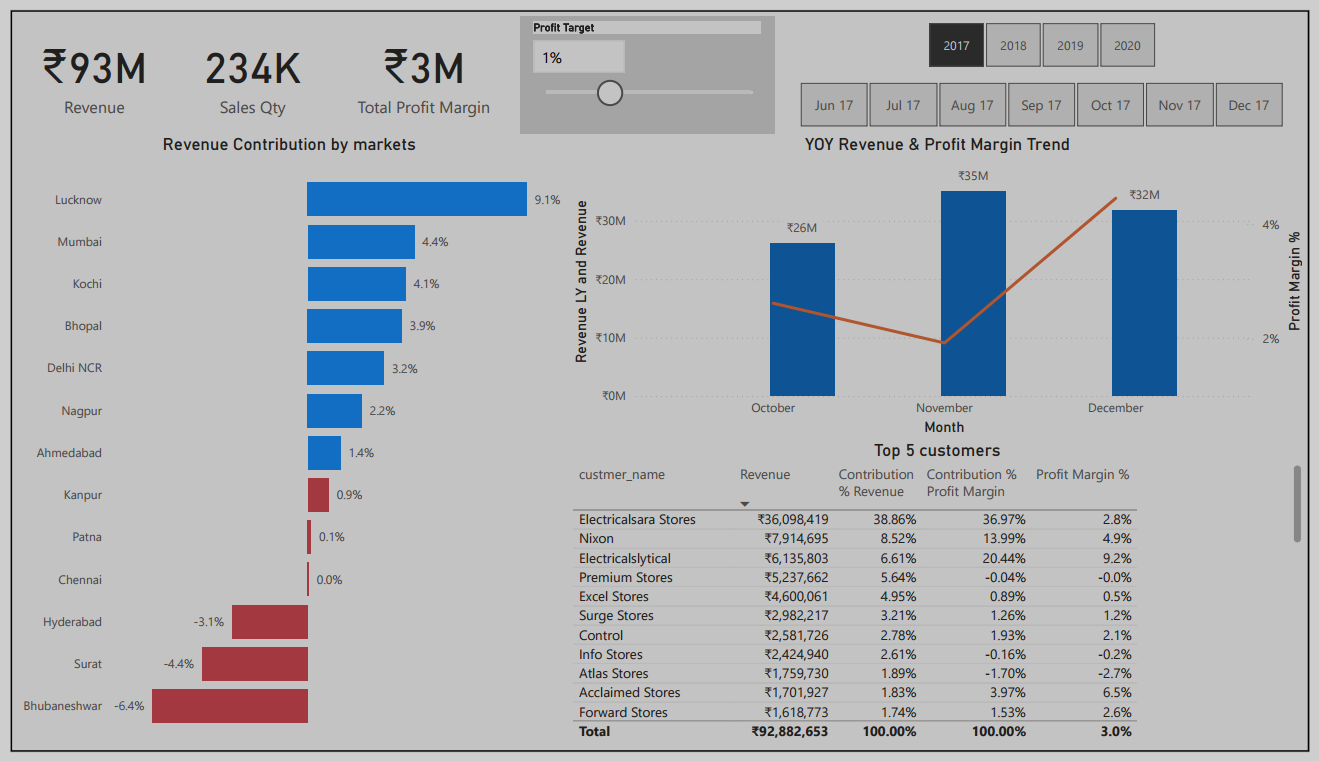

This screenshot's page, from the dashboard's own definition file:
{"tool":"powerbi","page":{"name":"Performance Insights","canvas":[1280,720],"ordinal":2},"visuals":[{"type":"card","fields":{"Values":["Base_Measures.Revenue"]},"box":[0,0,165,115],"z":0},{"type":"card","fields":{"Values":["Base_Measures.Sales Qty"]},"box":[165,0,147.5,115],"z":1000},{"type":"slicer","fields":{"Values":["date.year"]},"box":[881.4,0,272.9,57.1],"z":2000},{"type":"slicer","fields":{"Values":["date.cy_date"]},"box":[754.3,58.6,525.7,57.1],"z":3000},{"type":"tableEx","title":"Top 5 customers","fields":{"Values":["customers.custmer_name","Base_Measures.Revenue","Base_Measures.Contribution % Revenue","Base_Measures.Contribution % Profit Margin","Base_Measures.Profit Margin %"]},"box":[550,418.6,730,301.4],"z":4000},{"type":"lineClusteredColumnComboChart","title":"YOY Revenue & Profit Margin Trend","fields":{"Category":["date.cy_date.Variation.Date Hierarchy.Year","date.cy_date.Variation.Date Hierarchy.Quarter","date.cy_date.Variation.Date Hierarchy.Month","date.cy_date.Variation.Date Hierarchy.Day"],"Y":["Base_Measures.Revenue LY","Base_Measures.Revenue"],"Y2":["Base_Measures.Profit Margin %"]},"box":[550,115.7,730,302.9],"z":5000},{"type":"card","fields":{"Values":["Base_Measures.Total Profit Margin"]},"box":[312.5,0,190,115],"z":6000},{"type":"clusteredBarChart","title":"Revenue Contribution by markets","fields":{"Category":["markets.zone","markets.markets_name"],"Y":["Base_Measures.Profit Margin %"]},"box":[0,115.7,550,604.3],"z":7000},{"type":"slicer","fields":{"Values":["Profit Target.Profit Target"]},"box":[502.9,0,251.4,115.7],"z":8000}]}

Visuals, with their boxes in screenshot pixels (x1, y1, x2, y2), scaled from the page's 1280x720 canvas onto the 1319x761 screenshot:
card - Base_Measures.Revenue: [left=0, top=0, right=170, bottom=122]
card - Base_Measures.Sales Qty: [left=170, top=0, right=322, bottom=122]
slicer - date.year: [left=908, top=0, right=1189, bottom=60]
slicer - date.cy_date: [left=777, top=62, right=1318, bottom=122]
"Top 5 customers" tableEx: [left=567, top=442, right=1318, bottom=760]
"YOY Revenue & Profit Margin Trend" lineClusteredColumnComboChart: [left=567, top=122, right=1318, bottom=442]
card - Base_Measures.Total Profit Margin: [left=322, top=0, right=518, bottom=122]
"Revenue Contribution by markets" clusteredBarChart: [left=0, top=122, right=567, bottom=760]
slicer - Profit Target.Profit Target: [left=518, top=0, right=777, bottom=122]
